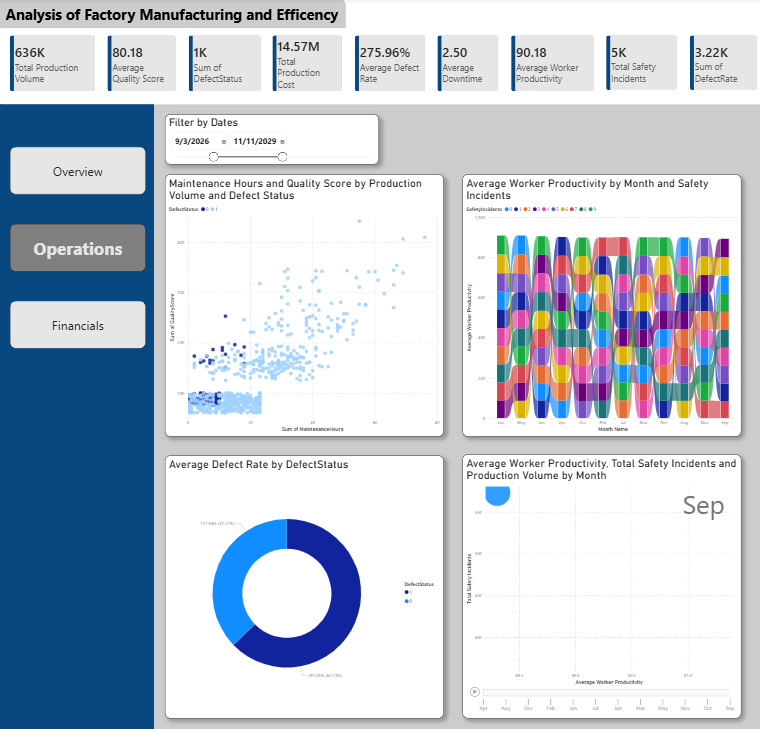

This screenshot's page, from the dashboard's own definition file:
{"tool":"powerbi","page":{"name":"Operations","canvas":[2080,2000],"ordinal":1},"visuals":[{"type":"shape","title":"Factory Manufacturing Defects","box":[0,0,2080,290],"z":0},{"type":"cardVisual","fields":{"Data":["_Measure.Total Production Volume"]},"box":[10,83.7,266.7,186.7],"z":1000},{"type":"cardVisual","fields":{"Data":["_Measure.Average Defect Rate"]},"box":[950,83.7,226.7,186.7],"z":2000},{"type":"cardVisual","fields":{"Data":["_Measure.Average Downtime"]},"box":[1176.7,83.7,200,186.7],"z":3000},{"type":"cardVisual","fields":{"Data":["_Measure.Average Quality Score"]},"box":[276.7,83.7,220,186.7],"z":4000},{"type":"cardVisual","fields":{"Data":["_Measure.Average Worker Productivity"]},"box":[1376.7,83.7,260,186.7],"z":5000},{"type":"cardVisual","fields":{"Data":["Sum(Fact_Manufacturing.DefectRate)"]},"box":[1863.3,83.7,216.7,183.3],"z":6000},{"type":"cardVisual","fields":{"Data":["Sum(Fact_Manufacturing.DefectStatus)"]},"box":[496.7,83.7,230,186.7],"z":7000},{"type":"cardVisual","fields":{"Data":["_Measure.Total Production Cost"]},"box":[726.7,83.7,223.3,186.7],"z":8000},{"type":"cardVisual","fields":{"Data":["_Measure.Total Safety Incidents"]},"box":[1636.7,83.7,226.7,183.3],"z":9000},{"type":"shape","box":[0,290,420,1710],"z":10000},{"type":"ribbonChart","title":"Average Worker Productivity by Month and Safety Incidents","fields":{"Category":["DateTable.Month Name"],"Y":["_Measure.Average Worker Productivity"],"Series":["Fact_Manufacturing.SafetyIncidents"]},"box":[1260,480,760,715],"z":11000},{"type":"scatterChart","title":"Maintenance Hours and Quality Score by Production Volume and Defect Status","fields":{"X":["Sum(Fact_Manufacturing.MaintenanceHours)"],"Category":["Fact_Manufacturing.ProductionVolume"],"Series":["Fact_Manufacturing.DefectStatus"],"Y":["Sum(Fact_Manufacturing.QualityScore)"]},"box":[450,480,760,715],"z":12000},{"type":"donutChart","fields":{"Category":["Fact_Manufacturing.DefectStatus"],"Y":["_Measure.Average Defect Rate"]},"box":[448.7,1246.7,760,716.7],"z":13000},{"type":"scatterChart","title":"Average Worker Productivity, Total Safety Incidents and Production Volume by Month","fields":{"X":["_Measure.Average Worker Productivity"],"Y":["_Measure.Total Safety Incidents"],"Size":["Sum(Fact_Manufacturing.ProductionVolume)"],"Play":["DateTable.Month Name"]},"box":[1260,1245,760,720],"z":14000},{"type":"pageNavigator","box":[26.7,406.7,370,550],"z":15000},{"type":"shape","box":[0,0,943.3,83.3],"z":16000},{"type":"slicer","title":"Filter by Dates","fields":{"Values":["DateTable.Date"]},"box":[450,316.7,583.3,136.7],"z":17000}]}

Visuals, with their boxes in screenshot pixels (x1, y1, x2, y2), scaled from the page's 2080x2000 canvas onto the 760x729 screenshot:
"Factory Manufacturing Defects" shape: (0, 0, 759, 106)
cardVisual - _Measure.Total Production Volume: (4, 31, 101, 99)
cardVisual - _Measure.Average Defect Rate: (347, 31, 430, 99)
cardVisual - _Measure.Average Downtime: (430, 31, 503, 99)
cardVisual - _Measure.Average Quality Score: (101, 31, 181, 99)
cardVisual - _Measure.Average Worker Productivity: (503, 31, 598, 99)
cardVisual - Sum(Fact_Manufacturing.DefectRate): (681, 31, 759, 97)
cardVisual - Sum(Fact_Manufacturing.DefectStatus): (181, 31, 266, 99)
cardVisual - _Measure.Total Production Cost: (266, 31, 347, 99)
cardVisual - _Measure.Total Safety Incidents: (598, 31, 681, 97)
shape: (0, 106, 153, 728)
"Average Worker Productivity by Month and Safety Incidents" ribbonChart: (460, 175, 738, 436)
"Maintenance Hours and Quality Score by Production Volume and Defect Status" scatterChart: (164, 175, 442, 436)
donutChart - Fact_Manufacturing.DefectStatus x _Measure.Average Defect Rate: (164, 454, 442, 716)
"Average Worker Productivity, Total Safety Incidents and Production Volume by Month" scatterChart: (460, 454, 738, 716)
pageNavigator: (10, 148, 145, 349)
shape: (0, 0, 345, 30)
"Filter by Dates" slicer: (164, 115, 378, 165)
